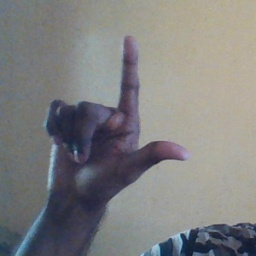L: (41, 34, 190, 200)
